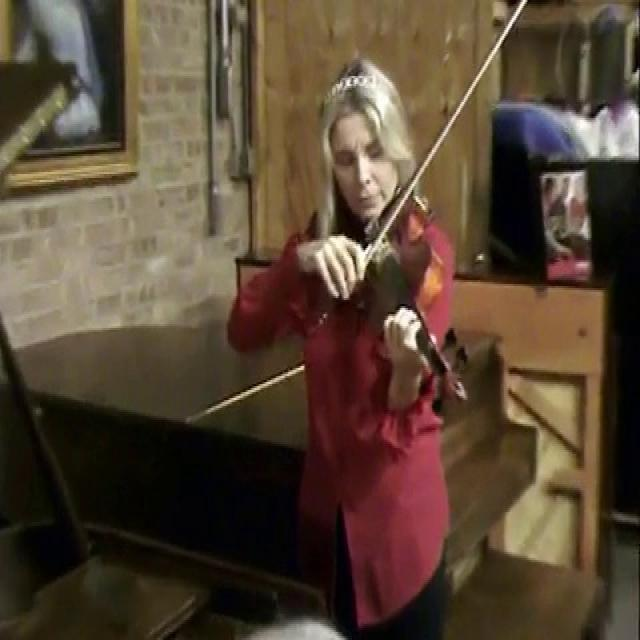Violin: (328, 172, 481, 418)
